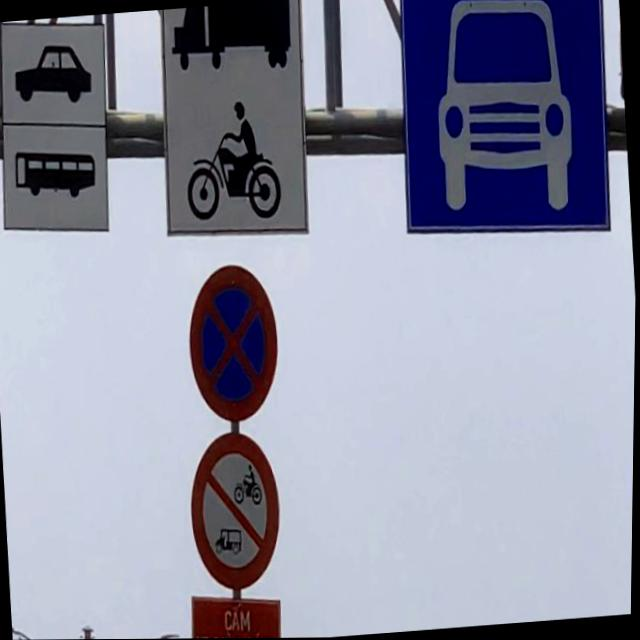Cam dung xe va do xe: (179, 255, 289, 432)
